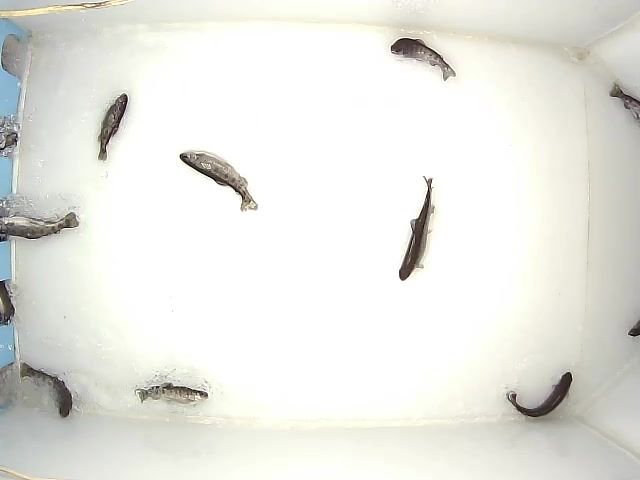fish: (179, 149, 259, 214), (398, 174, 437, 282), (504, 370, 574, 421), (389, 36, 456, 83), (18, 362, 73, 419), (96, 93, 128, 162), (1, 212, 79, 240), (134, 382, 209, 405)
